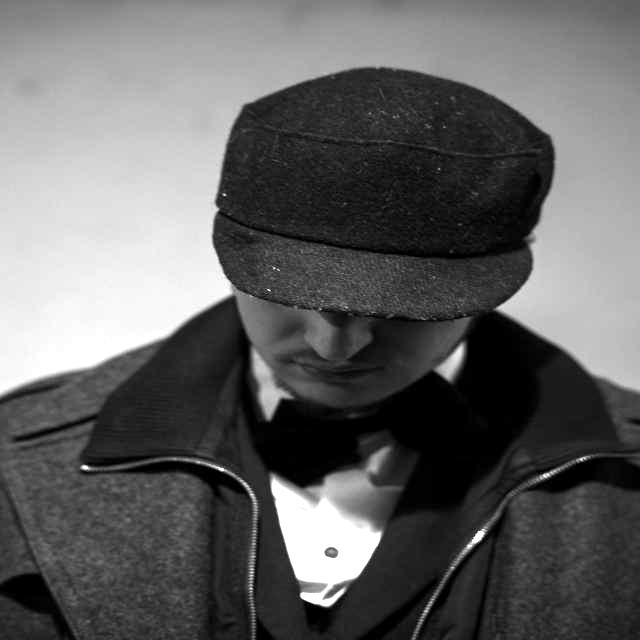no_hard_hat: (213, 68, 555, 322)
person: (0, 69, 640, 640)
